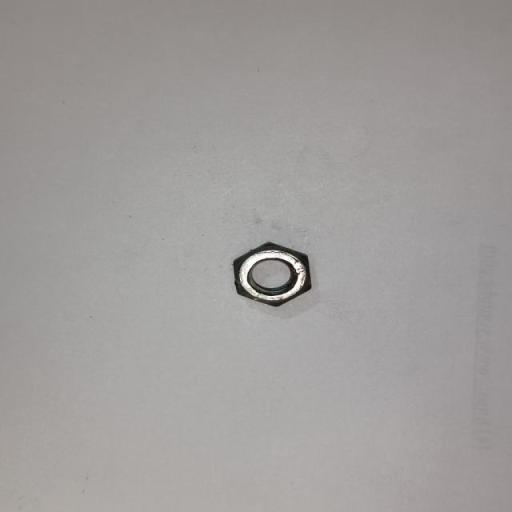Nut: (232, 241, 312, 308)
